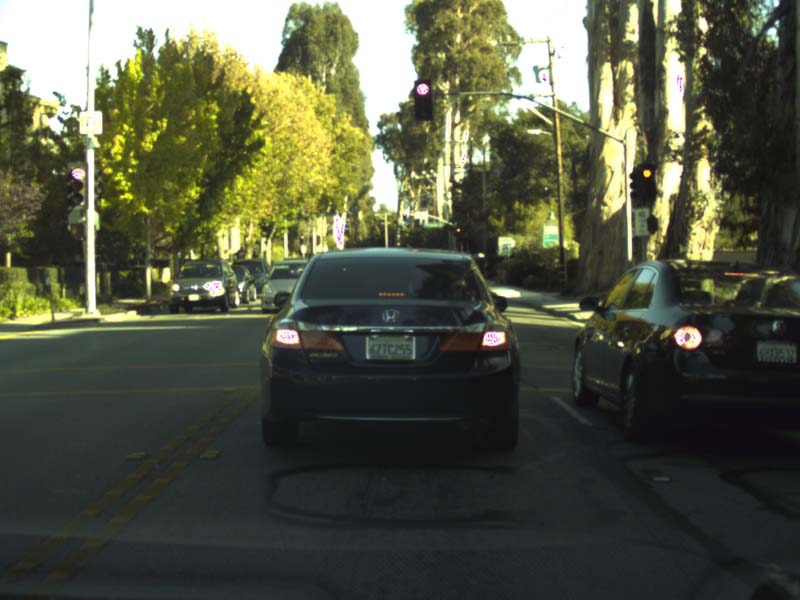Red: (66, 162, 85, 210), (414, 79, 432, 120), (637, 164, 654, 200)
